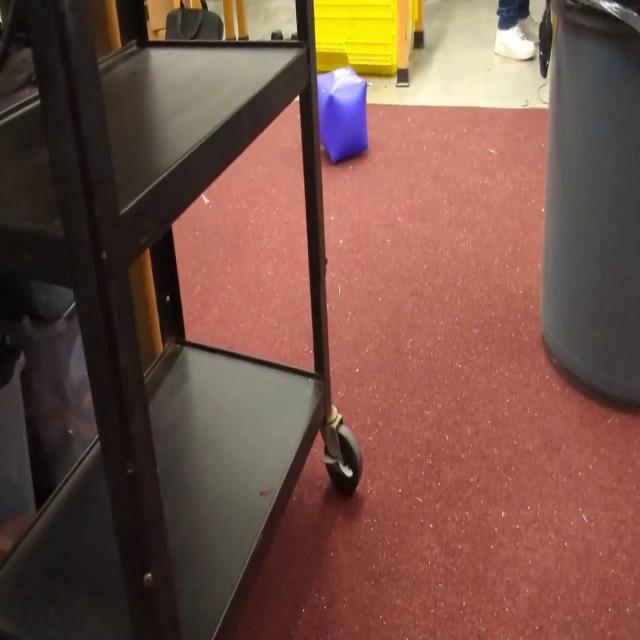frc_cube: (316, 64, 368, 164)
